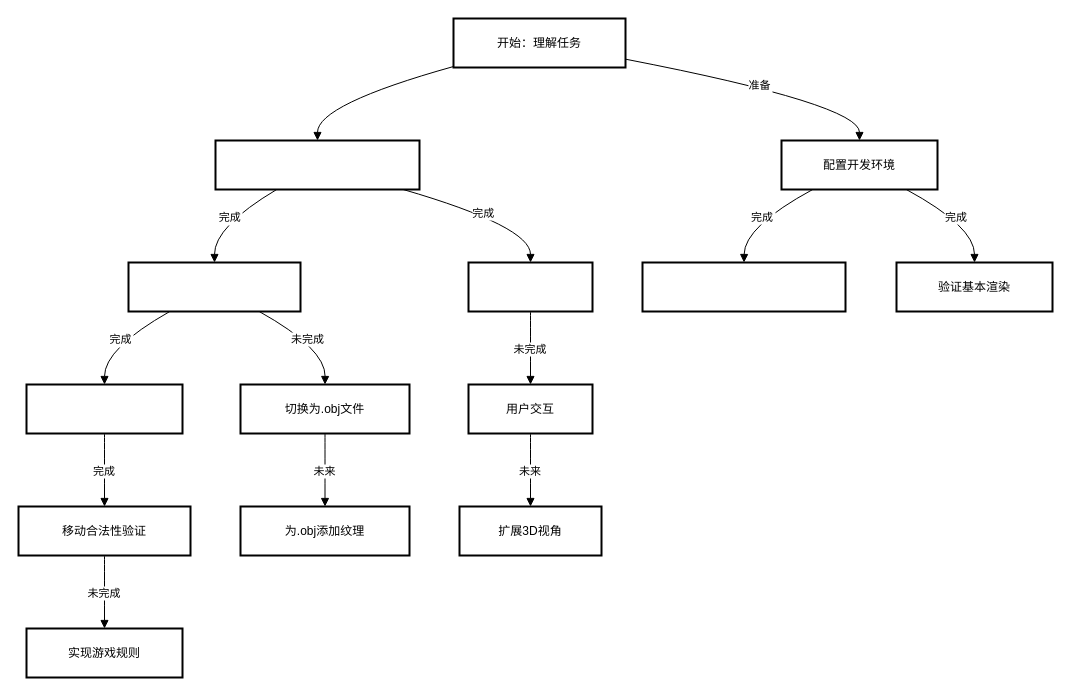
The diagram is 1070 pixels wide and 695 high, and some of its shapes have lost their labels. The box of each missing label's shape, as (x1, y1, x2, y2) in pixels:
实现棋盘与棋子逻辑: (214, 139, 420, 190)
实现移动规则: (25, 383, 183, 434)
棋子定义与渲染: (127, 261, 301, 312)
棋盘渲染: (467, 261, 593, 312)
配置OpenGL与GLUT: (641, 261, 846, 312)
